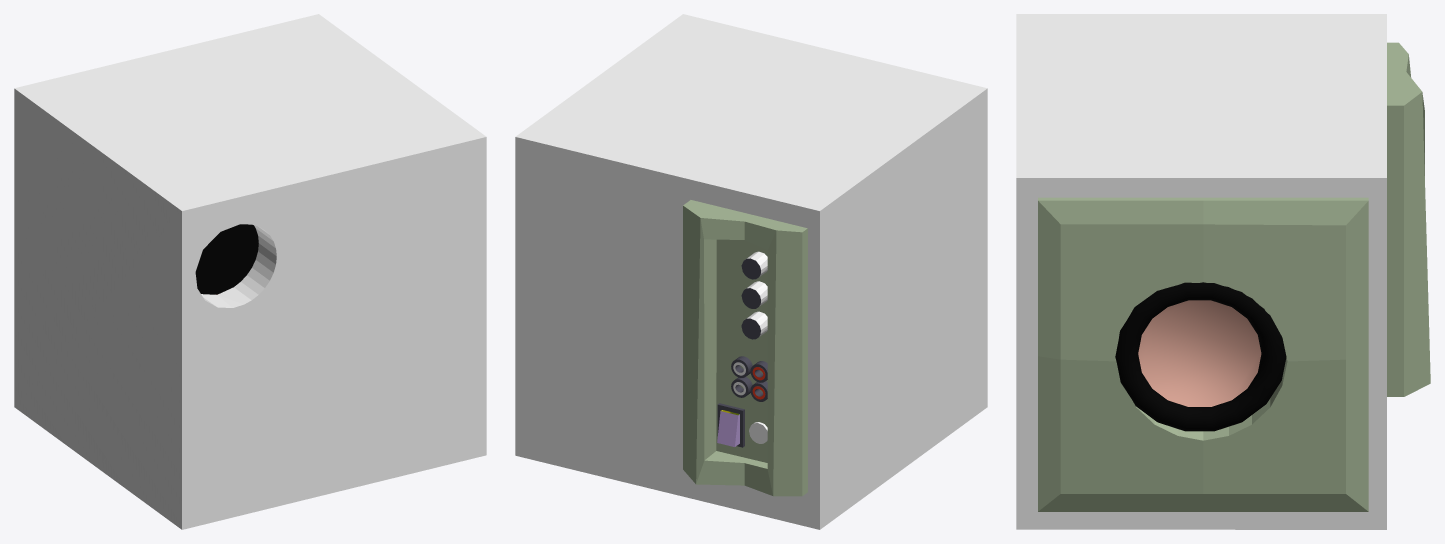
The model's file is ParlanteBlancoAUnity.fbx.
The picture shows the model from 3 angles, left to right: view 1: azimuth 30°, elevation 25°; view 2: azimuth 150°, elevation 25°; view 3: azimuth 270°, elevation 25°; orthographic projection. The views are drawn at different scales.
Parts seen in each view (by area): view 1: ParlanteUnificado; view 2: ParlanteUnificado; view 3: ParlanteUnificado.
Boxes of the visible parts, box(x1,y1,x2,y2) form: ParlanteUnificado: box(14, 14, 486, 529); ParlanteUnificado: box(515, 14, 987, 529); ParlanteUnificado: box(1016, 14, 1430, 529).
Size of the model in its own units: 23.29 by 22 by 23.49.
1 material, 1 textured.
